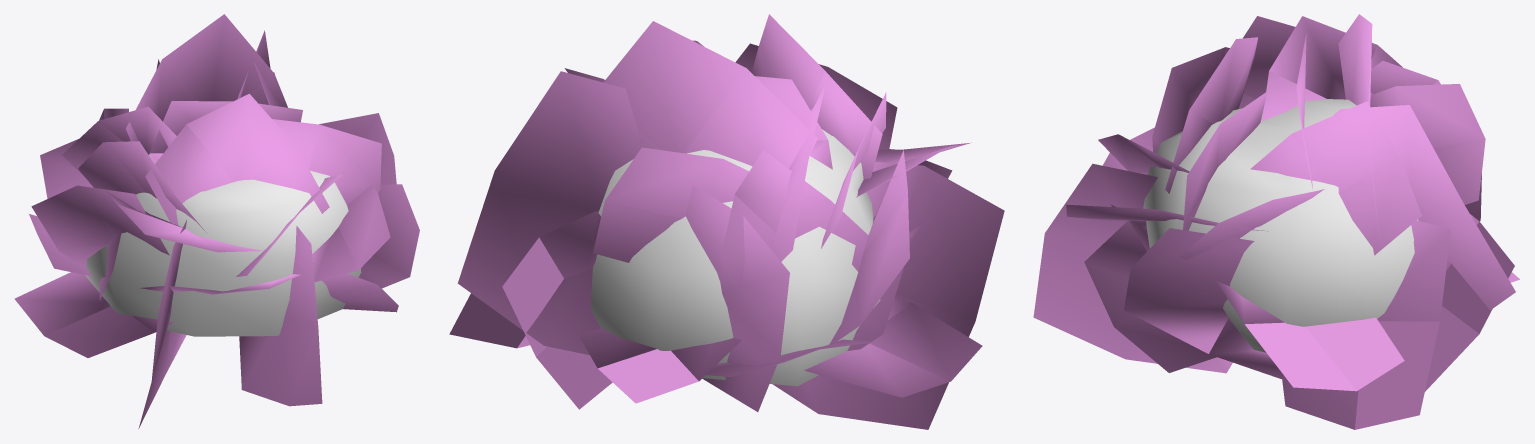
The model's file is bush.glb.
3 views of the same model, side by side, from view 1: azimuth 30°, elevation 25°; view 2: azimuth 150°, elevation 25°; view 3: azimuth 270°, elevation 25° (orthographic). The views are drawn at different scales.
Parts seen in each view (by area): view 1: Leaves, BaseBush; view 2: Leaves, BaseBush; view 3: Leaves, BaseBush.
Boxes of the visible parts, x1,y1,x2,y2 form: Leaves: [14, 14, 419, 428]; BaseBush: [85, 154, 361, 336]; Leaves: [449, 14, 1004, 429]; BaseBush: [590, 129, 880, 386]; Leaves: [1033, 14, 1519, 429]; BaseBush: [1143, 99, 1418, 352].
Bounding box in the file's own units: 1.37 × 1.17 × 1.33.
